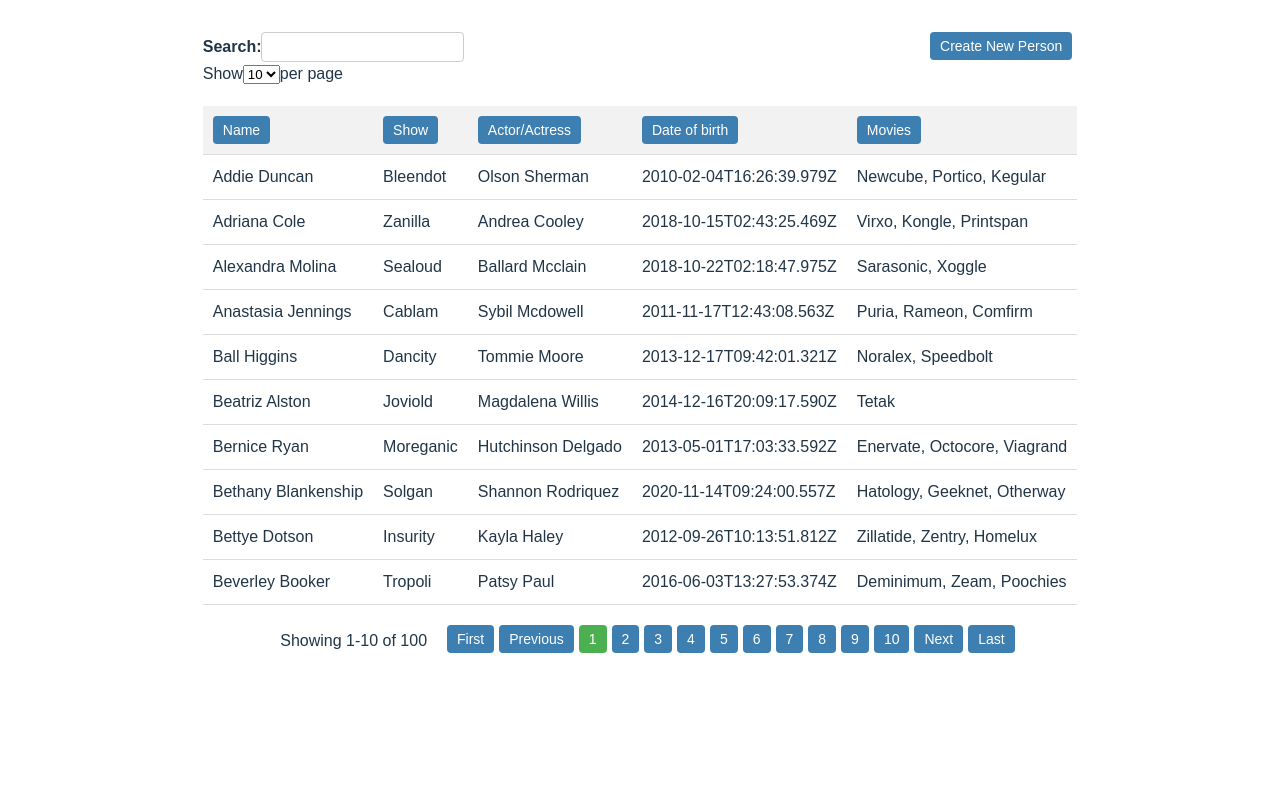
Scenario: People › Pagination › should update number of people displayed
This screenshot has width=1280, height=799.
expect the table is shown: met, box x1=203 y1=106 x2=1077 y2=605
expect the text "Showing 1-10 of 100" is shown: met, box x1=280 y1=629 x2=427 y2=653
Select "15" in the dropdown at (261, 74), box x1=243 y1=65 x2=280 y2=84
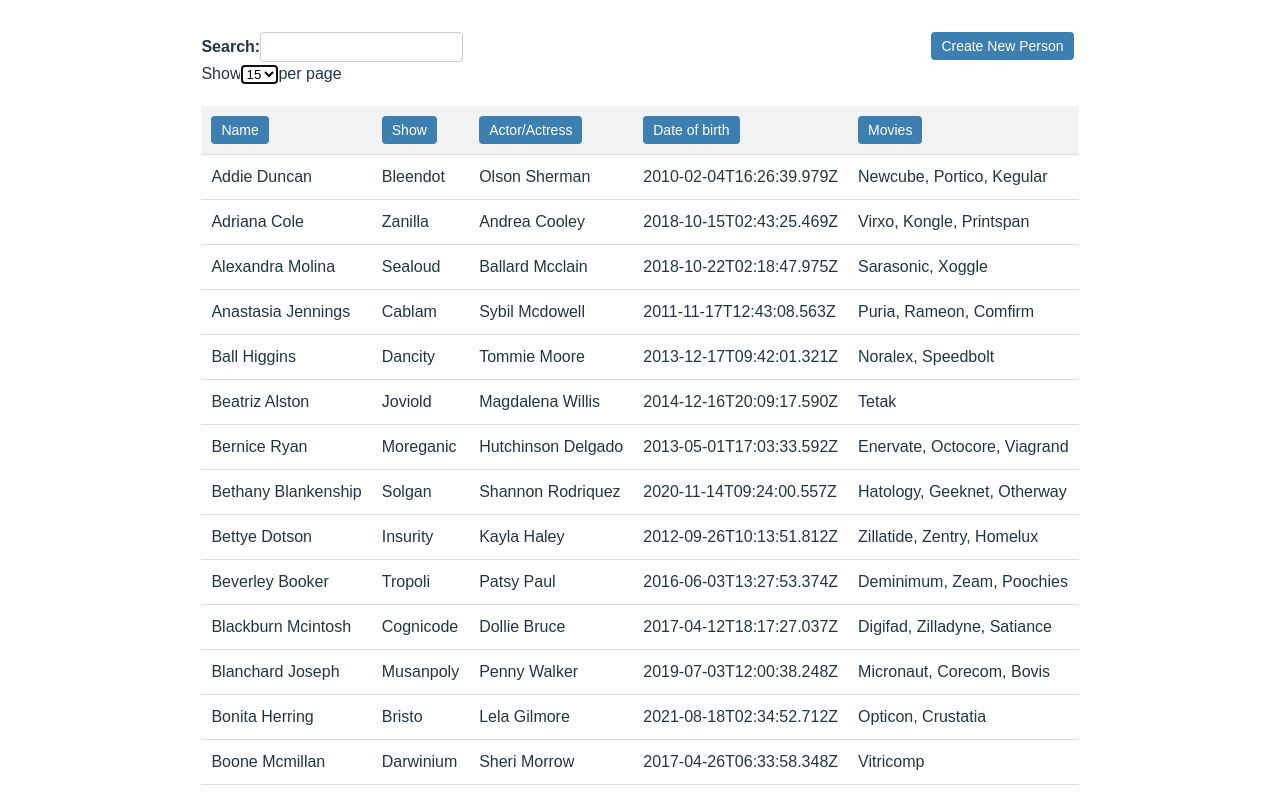
Select "20" in the dropdown at (260, 74), box x1=242 y1=65 x2=278 y2=84
(page scrolled)
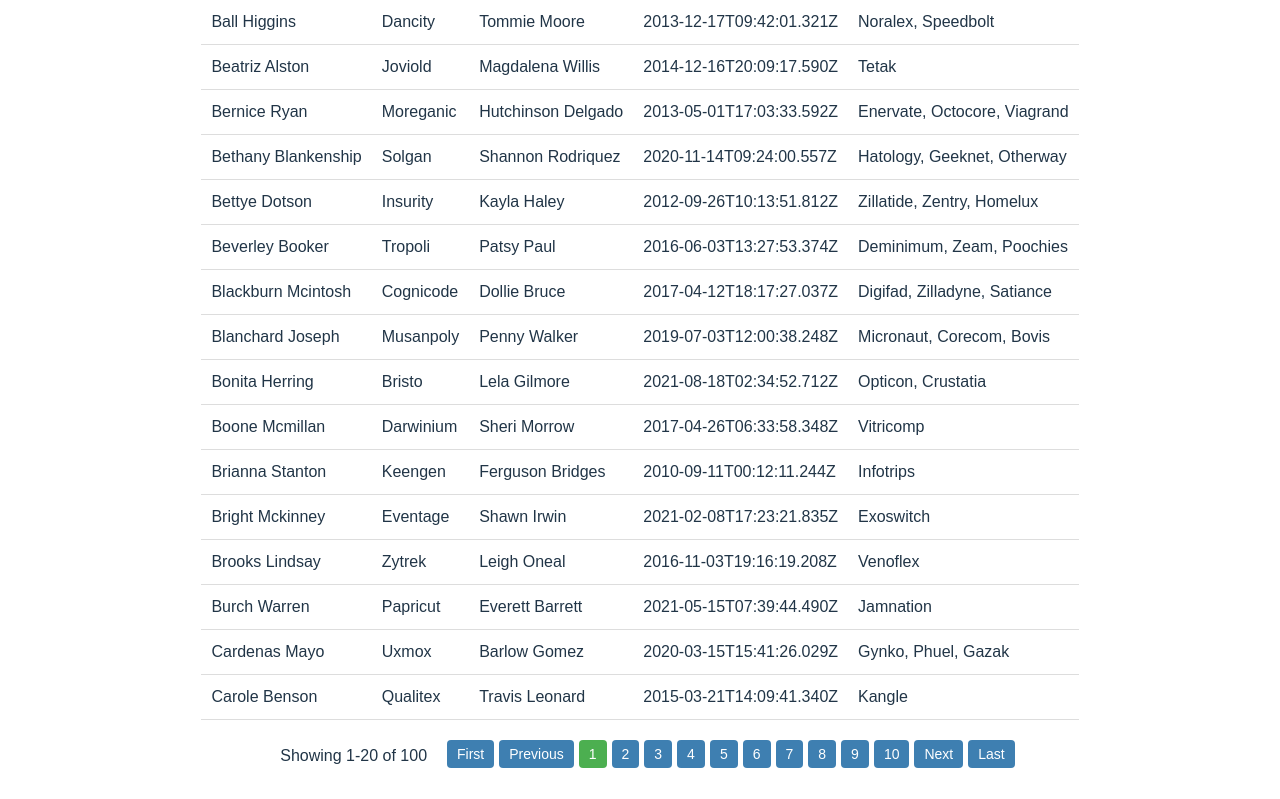
expect the text "Showing 1-20 of 100" is shown: met, box x1=280 y1=744 x2=427 y2=768
